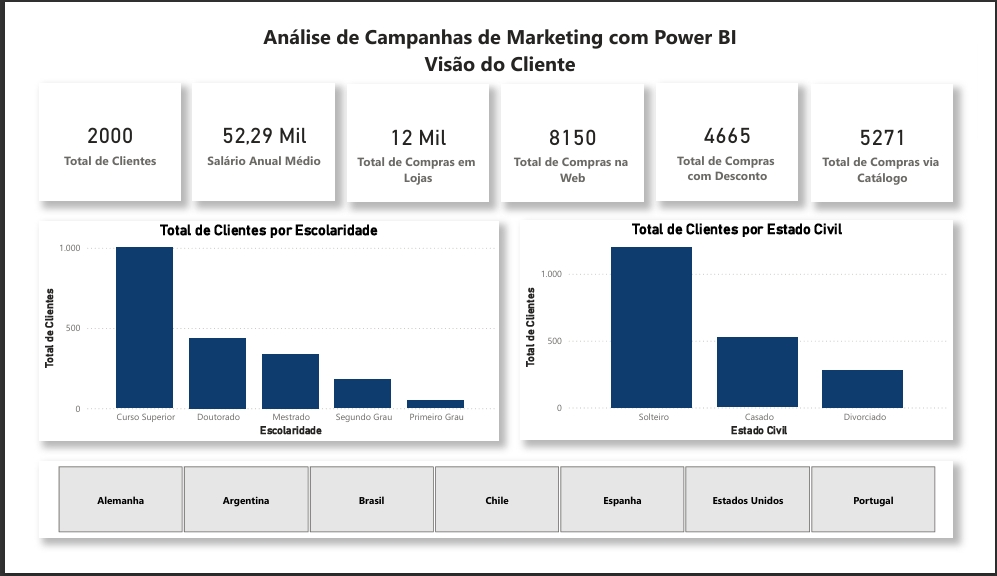

Layout of this report page (visuals, bound fields, positions):
{"tool":"powerbi","page":{"name":"Visão Cliente","canvas":[1280,720],"ordinal":0},"visuals":[{"type":"textbox","box":[0,0,1280.5,87.8],"z":0},{"type":"clusteredColumnChart","title":"Total de Clientes por Escolaridade","fields":{"Y":["CountNonNull(dados_marketing.ID)"],"Category":["dados_marketing.Escolaridade"]},"box":[22,270.7,616.1,294.1],"z":1000},{"type":"card","title":"Total de Clientes","fields":{"Values":["CountNonNull(dados_marketing.ID)"]},"box":[22,86.3,190.2,158],"z":2000},{"type":"card","fields":{"Values":["Avg(dados_marketing.Salario Anual)"]},"box":[228.3,86.3,190.2,158],"z":3000},{"type":"card","fields":{"Values":["Sum(dados_marketing.Numero de Compras na Loja)"]},"box":[434.6,87.8,190.2,158],"z":4000},{"type":"card","fields":{"Values":["Sum(dados_marketing.Numero de Compras na Web)"]},"box":[642.4,87.8,190.2,158],"z":5000},{"type":"card","fields":{"Values":["Sum(dados_marketing.Numero de Compras com Desconto)"]},"box":[850.2,86.3,190.2,158],"z":6000},{"type":"card","fields":{"Values":["Sum(dados_marketing.Numero de Compras via Catalogo)"]},"box":[1058,87.8,190.2,158],"z":7000},{"type":"clusteredColumnChart","title":"Total de Clientes por Estado Civil","fields":{"Y":["CountNonNull(dados_marketing.ID)"],"Category":["dados_marketing.Estado Civil"]},"box":[668.3,270,580,294],"z":8000},{"type":"slicer","title":"País","fields":{"Values":["dados_marketing.Pais"]},"box":[22,592.7,1226.3,102.4],"z":9000}]}

Visuals, with their boxes in screenshot pixels (x1, y1, x2, y2), scaled from the page's 1280x720 canvas onto the 997x576 screenshot:
textbox: pyautogui.locateOnScreen(0, 0, 996, 70)
"Total de Clientes por Escolaridade" clusteredColumnChart: pyautogui.locateOnScreen(17, 217, 497, 452)
"Total de Clientes" card: pyautogui.locateOnScreen(17, 69, 165, 195)
card - Avg(dados_marketing.Salario Anual): pyautogui.locateOnScreen(178, 69, 326, 195)
card - Sum(dados_marketing.Numero de Compras na Loja): pyautogui.locateOnScreen(339, 70, 487, 197)
card - Sum(dados_marketing.Numero de Compras na Web): pyautogui.locateOnScreen(500, 70, 649, 197)
card - Sum(dados_marketing.Numero de Compras com Desconto): pyautogui.locateOnScreen(662, 69, 810, 195)
card - Sum(dados_marketing.Numero de Compras via Catalogo): pyautogui.locateOnScreen(824, 70, 972, 197)
"Total de Clientes por Estado Civil" clusteredColumnChart: pyautogui.locateOnScreen(521, 216, 972, 451)
"País" slicer: pyautogui.locateOnScreen(17, 474, 972, 556)
